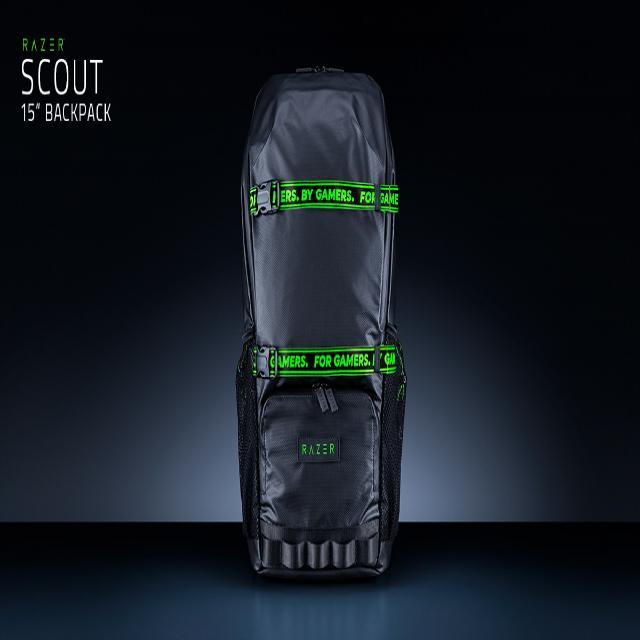Backpacks: (236, 58, 408, 590)
